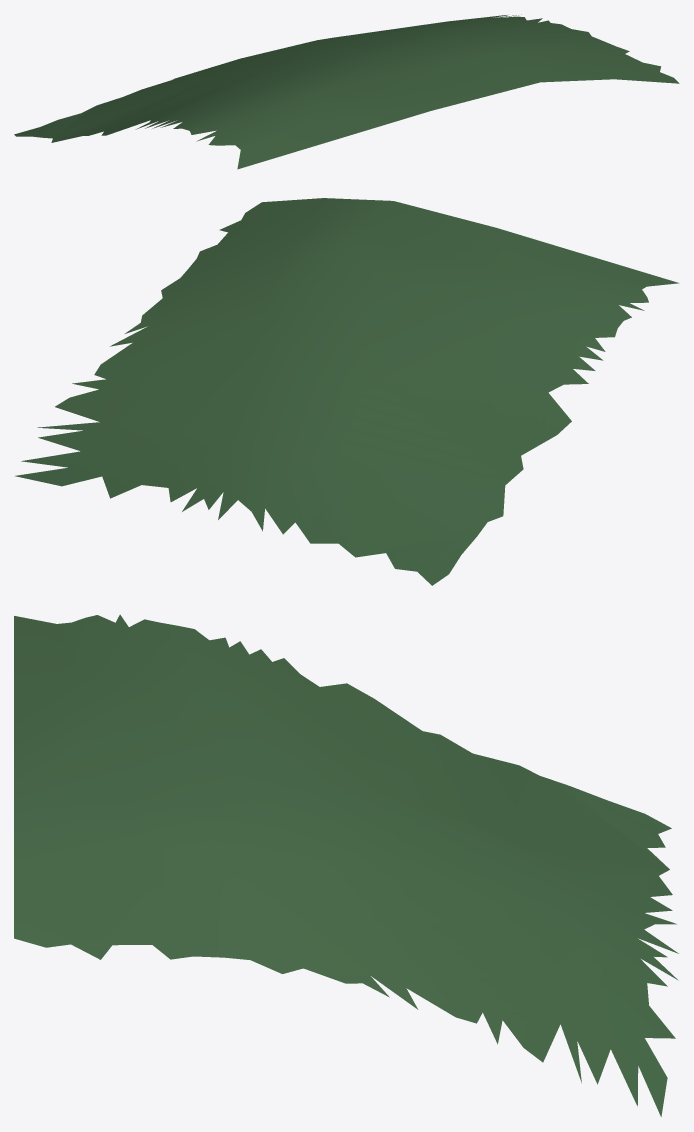
Rendered from payo_land_x1_y10_lod2.glb.
3 renders of one model, top to bottom at view 1: azimuth 30°, elevation 25°; view 2: azimuth 150°, elevation 25°; view 3: azimuth 270°, elevation 25°, orthographic. The views are drawn at different scales.
Parts seen in each view (by area): view 1: payo_land_x1_y10; view 2: payo_land_x1_y10; view 3: payo_land_x1_y10.
Boxes of the visible parts, <box> form: payo_land_x1_y10: <box>14,14,679,169</box>; payo_land_x1_y10: <box>15,198,679,585</box>; payo_land_x1_y10: <box>14,614,678,1116</box>.
Bounding box in the file's own units: 283 × 90.1 × 250.
